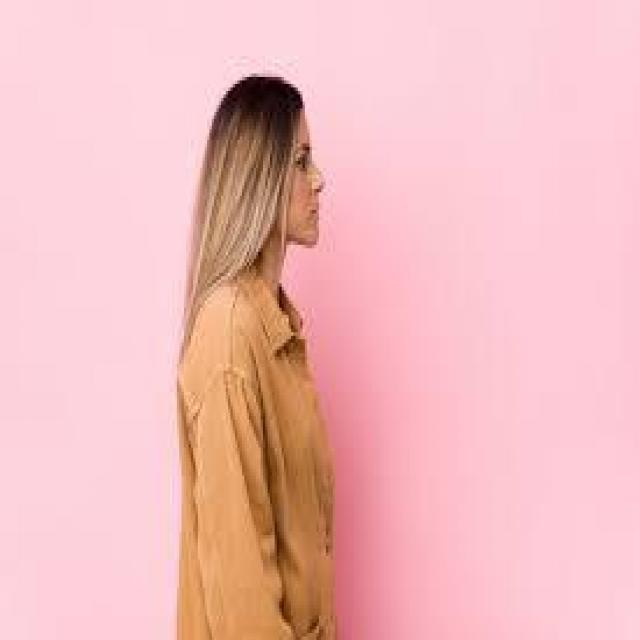person: (140, 42, 358, 633)
